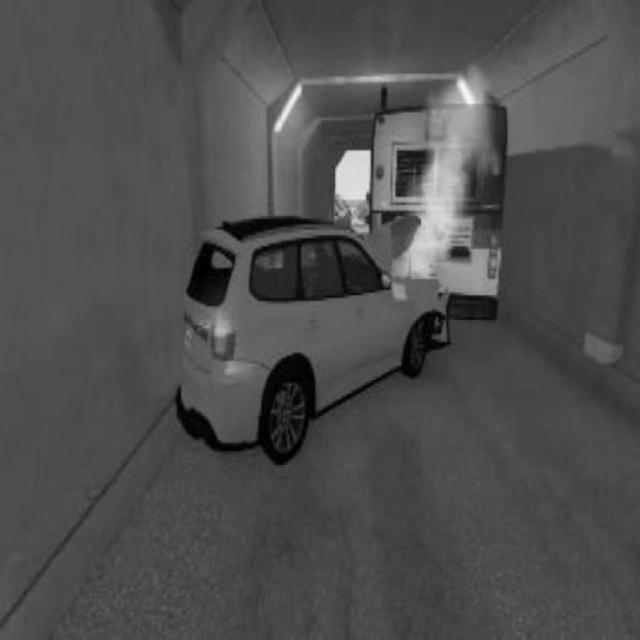accident: (177, 97, 511, 454)
